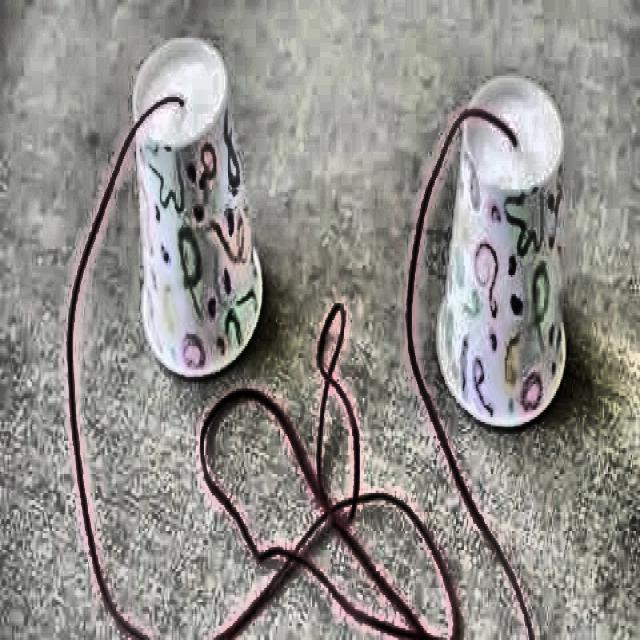Cup: (124, 23, 273, 381), (435, 71, 576, 437)
